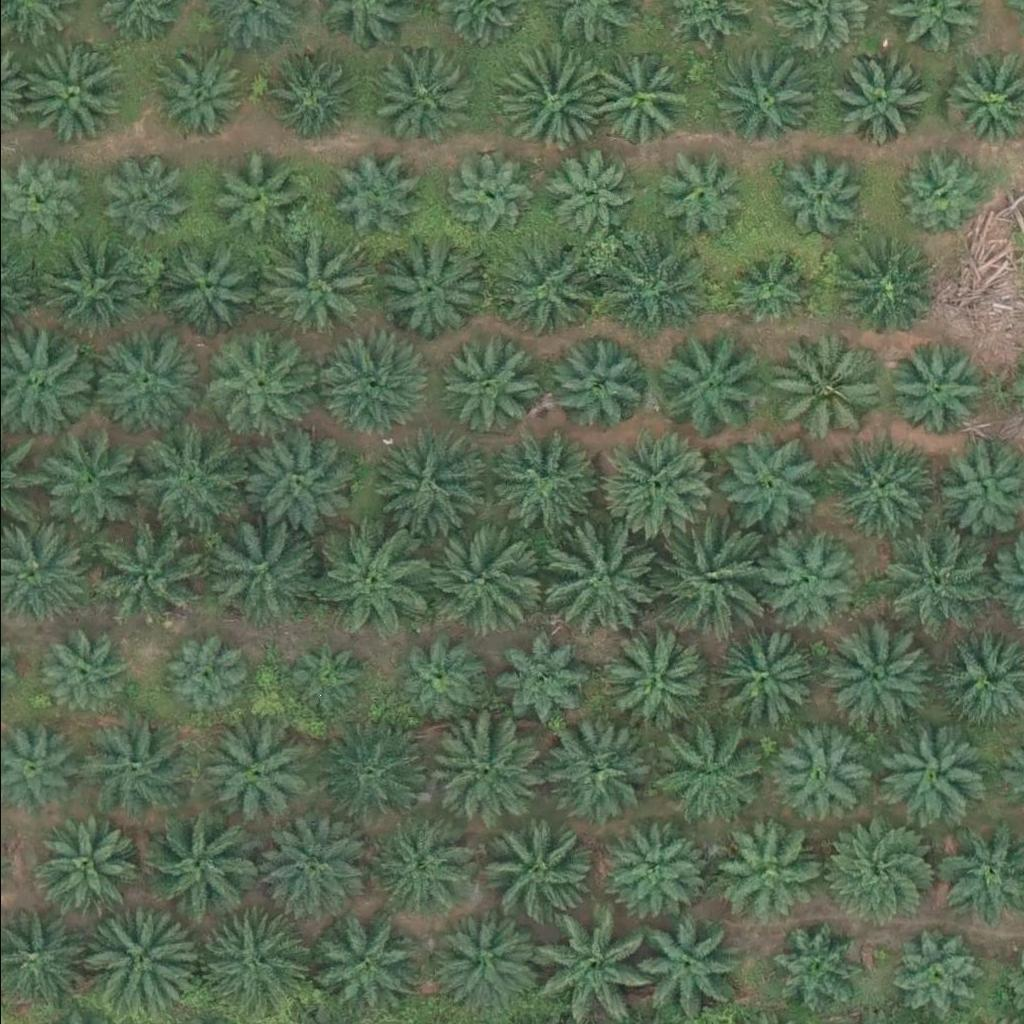Kelapa_Sawit: (531, 711, 645, 824), (374, 429, 488, 542), (426, 904, 539, 1017), (309, 908, 422, 1021), (193, 901, 306, 1014), (479, 814, 592, 927), (649, 519, 762, 632), (420, 528, 533, 641), (239, 422, 352, 535), (485, 429, 598, 542), (648, 326, 761, 439), (313, 328, 426, 441), (251, 234, 364, 347), (493, 232, 606, 345), (593, 233, 706, 346), (828, 809, 941, 922), (871, 716, 984, 829), (827, 427, 940, 540), (26, 818, 140, 930), (314, 523, 428, 635), (36, 232, 150, 344), (493, 43, 607, 155), (530, 906, 643, 1018), (80, 908, 193, 1020), (148, 809, 261, 921), (257, 805, 370, 917), (650, 718, 763, 830), (418, 719, 531, 831), (316, 718, 429, 830), (197, 719, 310, 831), (76, 708, 189, 820), (597, 624, 710, 736), (537, 525, 650, 637), (205, 514, 318, 626), (95, 519, 208, 631), (40, 421, 153, 533), (131, 420, 244, 532), (601, 428, 714, 540), (84, 327, 197, 439), (15, 36, 128, 148), (822, 622, 935, 734), (877, 526, 990, 638), (764, 336, 877, 448), (364, 820, 465, 920), (601, 826, 702, 926), (487, 631, 588, 731), (542, 331, 643, 431), (438, 339, 539, 439), (201, 335, 302, 435), (157, 231, 258, 331), (374, 242, 475, 342), (149, 41, 250, 141), (582, 54, 683, 154), (769, 916, 870, 1016), (719, 815, 820, 915), (770, 724, 871, 824), (708, 621, 809, 721), (753, 530, 854, 630), (718, 430, 819, 530), (884, 342, 985, 442), (631, 909, 731, 1009), (372, 42, 472, 142), (831, 236, 931, 336), (829, 50, 929, 150), (714, 49, 814, 149), (651, 145, 739, 233), (539, 149, 627, 237), (213, 154, 301, 242), (93, 159, 181, 247), (268, 47, 356, 135), (730, 245, 818, 333), (39, 632, 127, 719), (163, 632, 251, 719), (396, 643, 484, 730), (442, 151, 530, 238), (323, 152, 411, 239), (776, 152, 864, 239), (899, 149, 987, 236), (285, 641, 361, 716)
